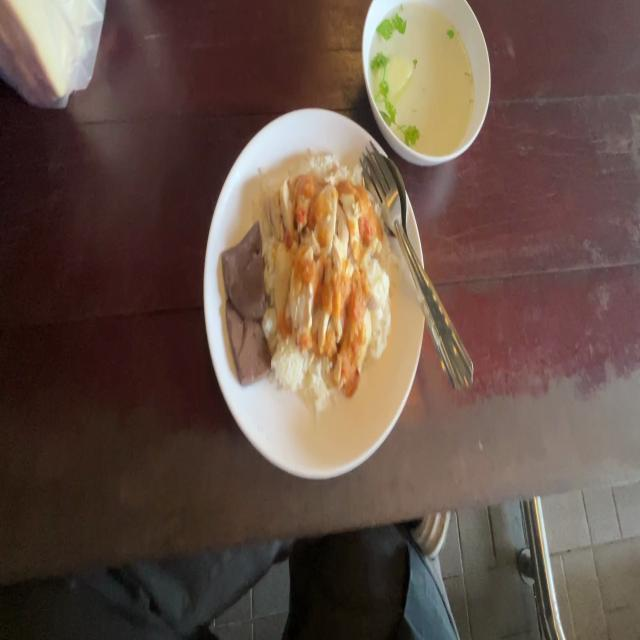boiled_chicken: (277, 169, 373, 381)
boiled_chicken_blood_jelly: (221, 221, 271, 376)
chicken_rice: (225, 157, 392, 406)
